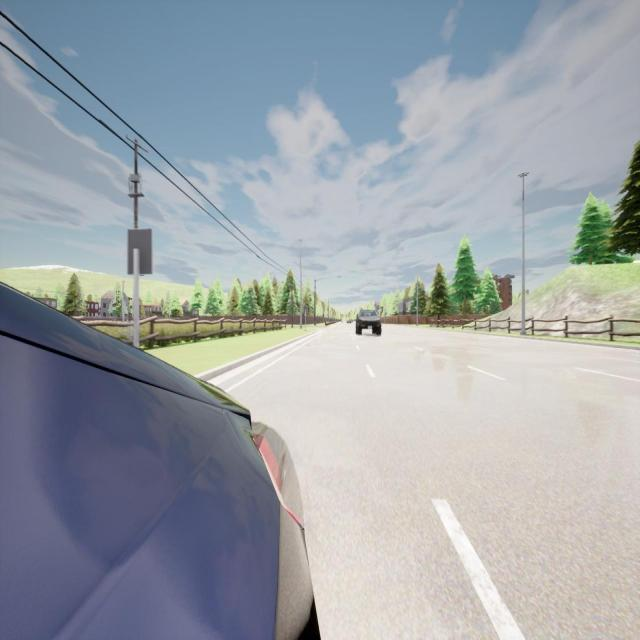Traffic_Signs: (128, 230, 150, 274), (304, 307, 308, 314)
Vehicle: (0, 283, 318, 638), (356, 309, 382, 337), (346, 319, 352, 324)
